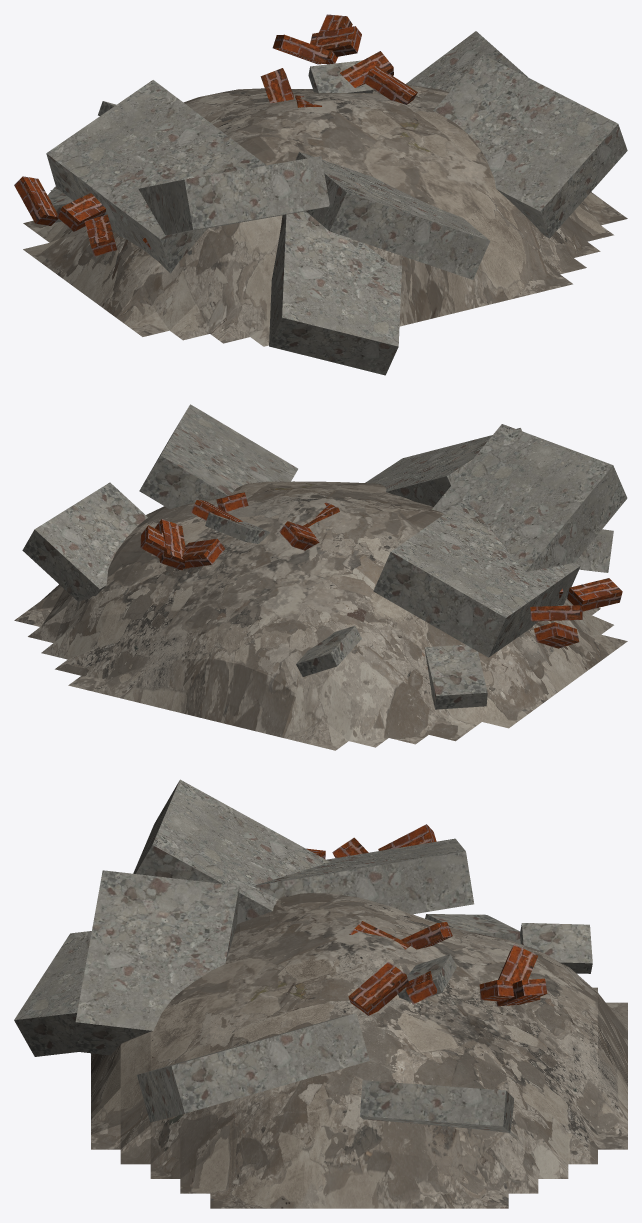
The model's file is S1U_RubblePile_S.fbx.
3 views of the same model, one above another, from view 1: azimuth 30°, elevation 25°; view 2: azimuth 150°, elevation 25°; view 3: azimuth 270°, elevation 25° (orthographic). The views are drawn at different scales.
Parts seen in each view (by area): view 1: S1U_RubblePile_S; view 2: S1U_RubblePile_S; view 3: S1U_RubblePile_S.
Part boxes in pixels (<box>): S1U_RubblePile_S: <box>14,14,627,375</box>; S1U_RubblePile_S: <box>14,404,627,750</box>; S1U_RubblePile_S: <box>14,779,627,1208</box>.
Bounding box in the file's own units: 2.97 × 1.01 × 2.74.
